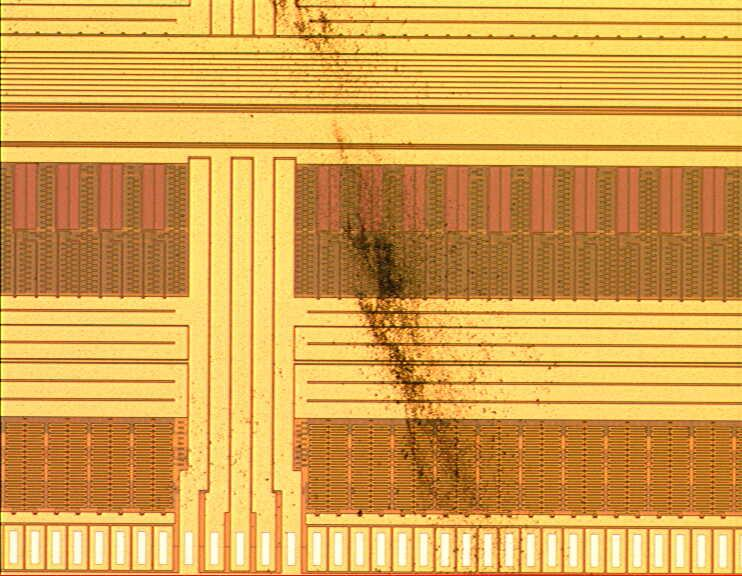PO CONTAMINATION: (265, 1, 508, 574)
